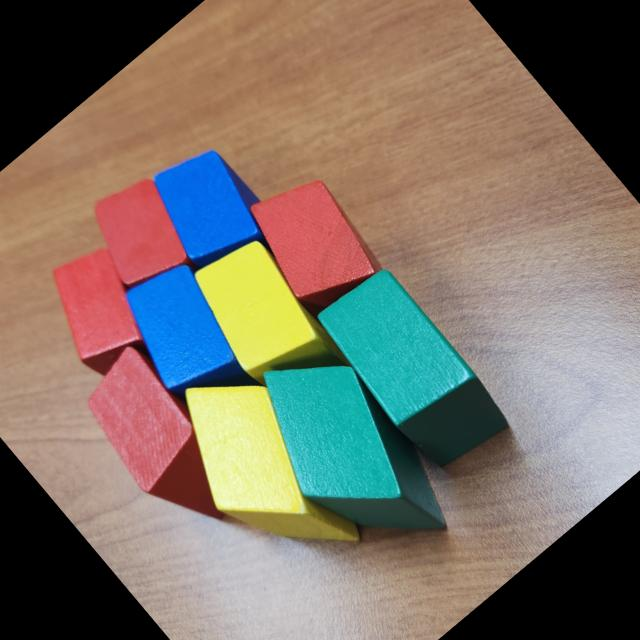blue: (100, 248, 282, 438), (132, 133, 288, 295)
green: (222, 323, 471, 586), (307, 259, 517, 484)
red: (65, 338, 262, 546), (232, 160, 393, 327), (23, 231, 174, 385), (72, 163, 209, 302)
yellow: (144, 346, 382, 596), (175, 225, 358, 416)
